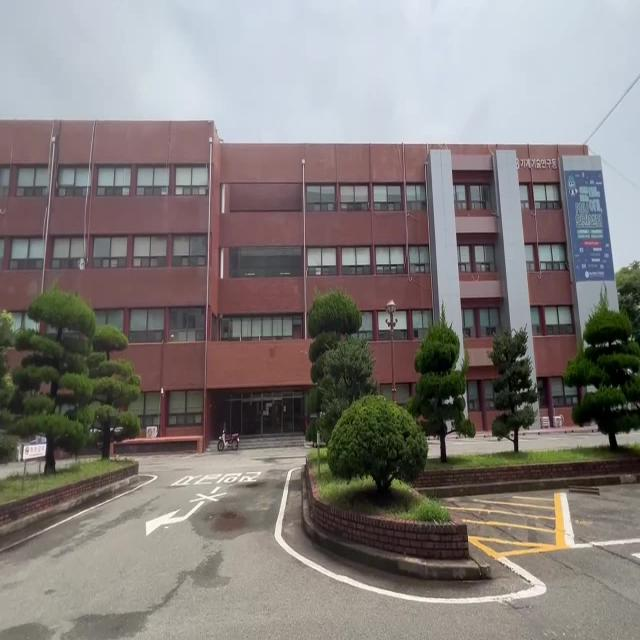building: (39, 110, 556, 307)
